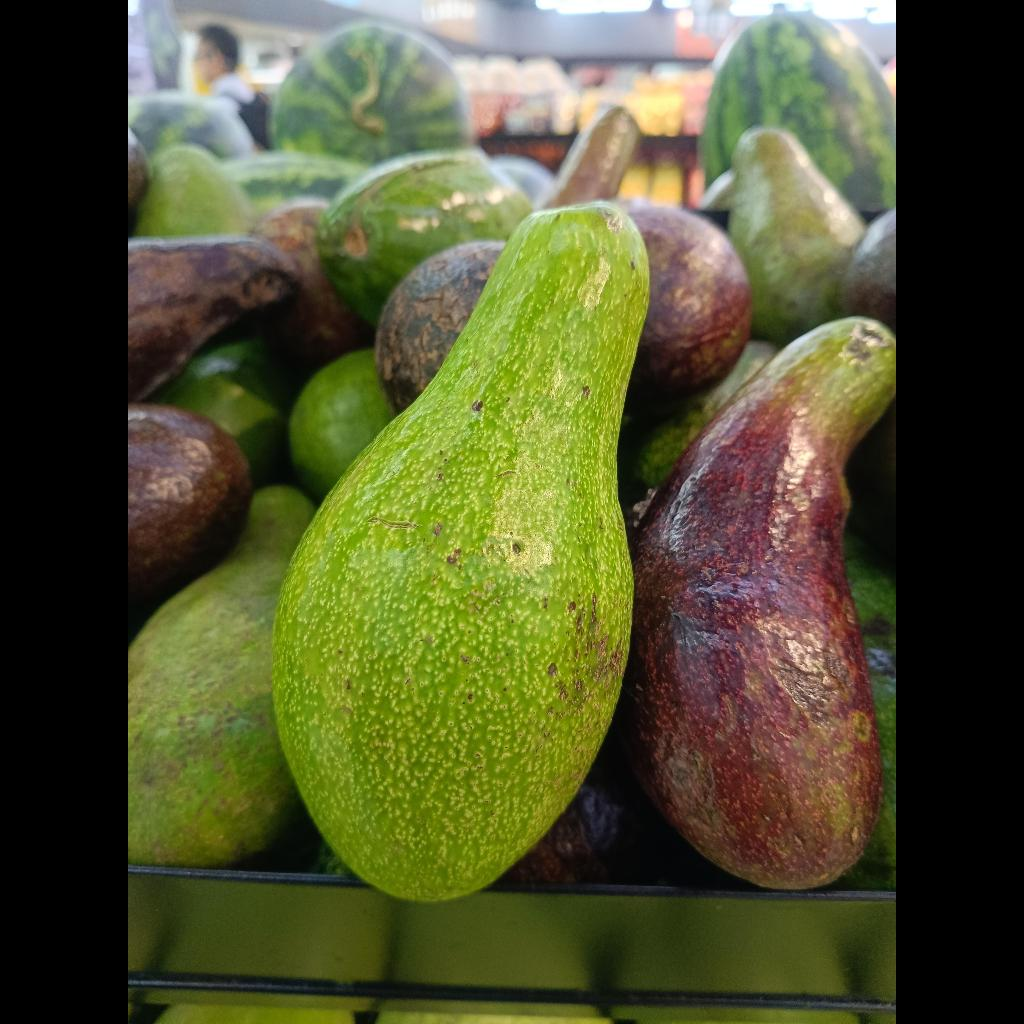healthy: (274, 202, 648, 900)
